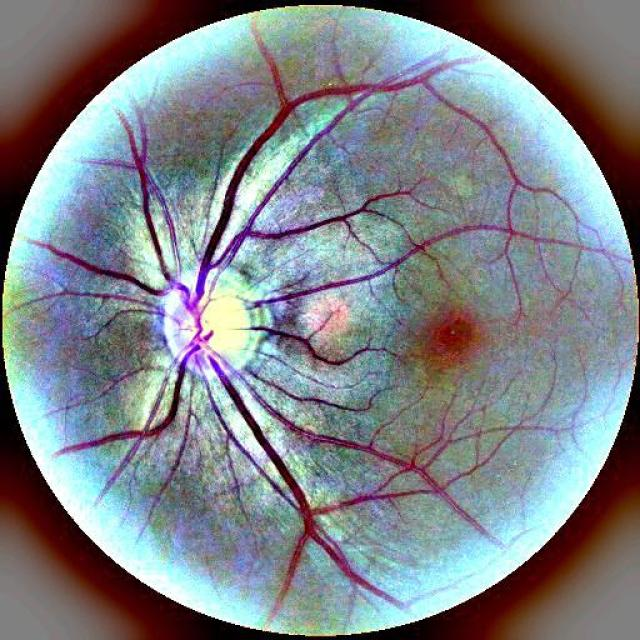Macula: (419, 300, 501, 397)
Nerves: (187, 36, 454, 335), (54, 335, 362, 590), (238, 371, 502, 547)
Optic Disk: (155, 254, 281, 387)
